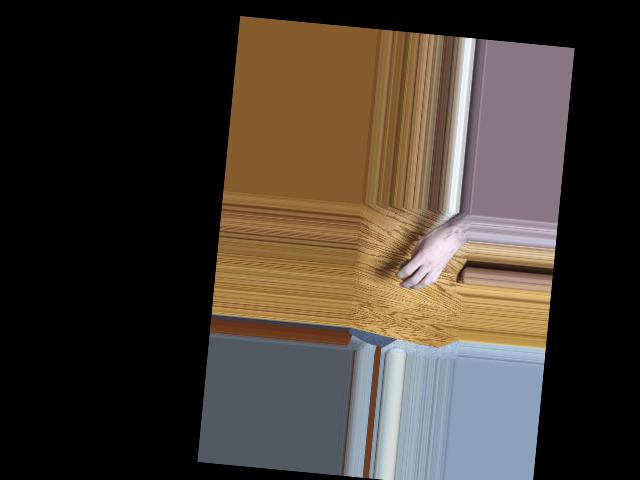onion: (398, 255, 422, 283)
